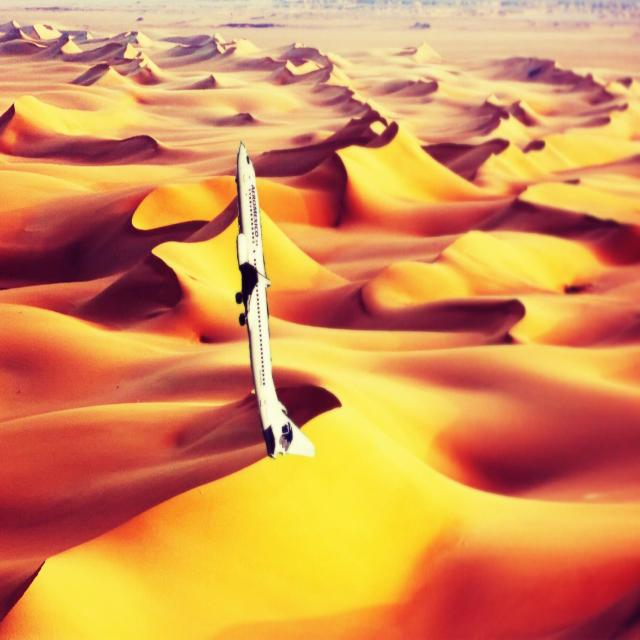airplane: (233, 139, 316, 460)
